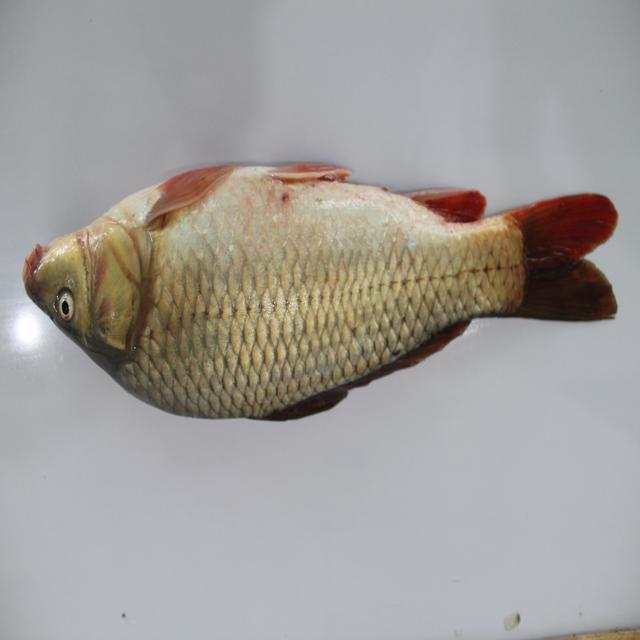CommonCarp: (18, 156, 623, 425)
